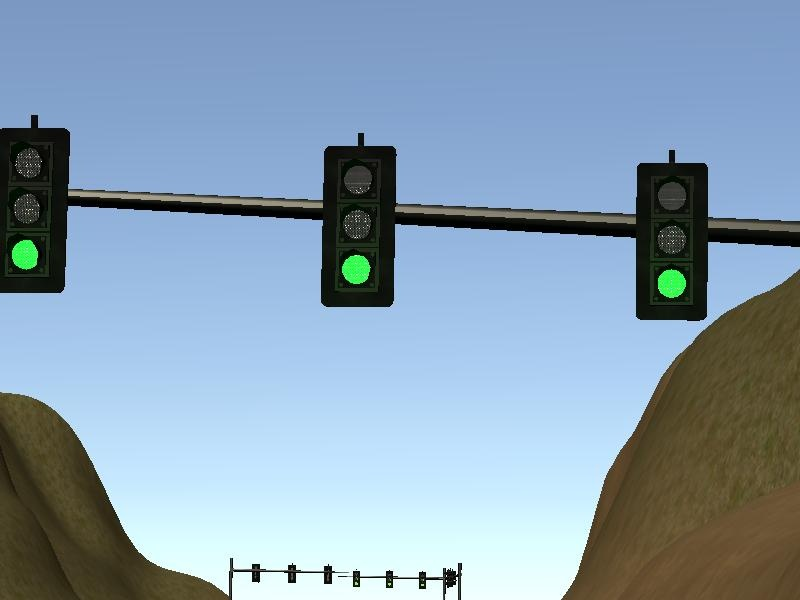green: (322, 143, 395, 306), (1, 123, 69, 295), (636, 163, 708, 323)
